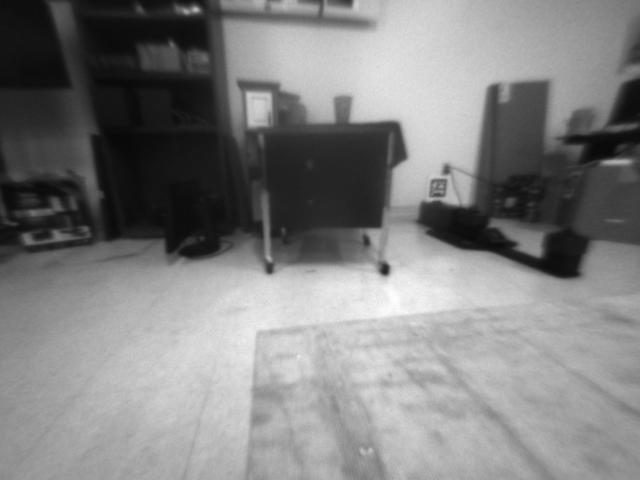coffee_cup: (330, 95, 354, 121)
